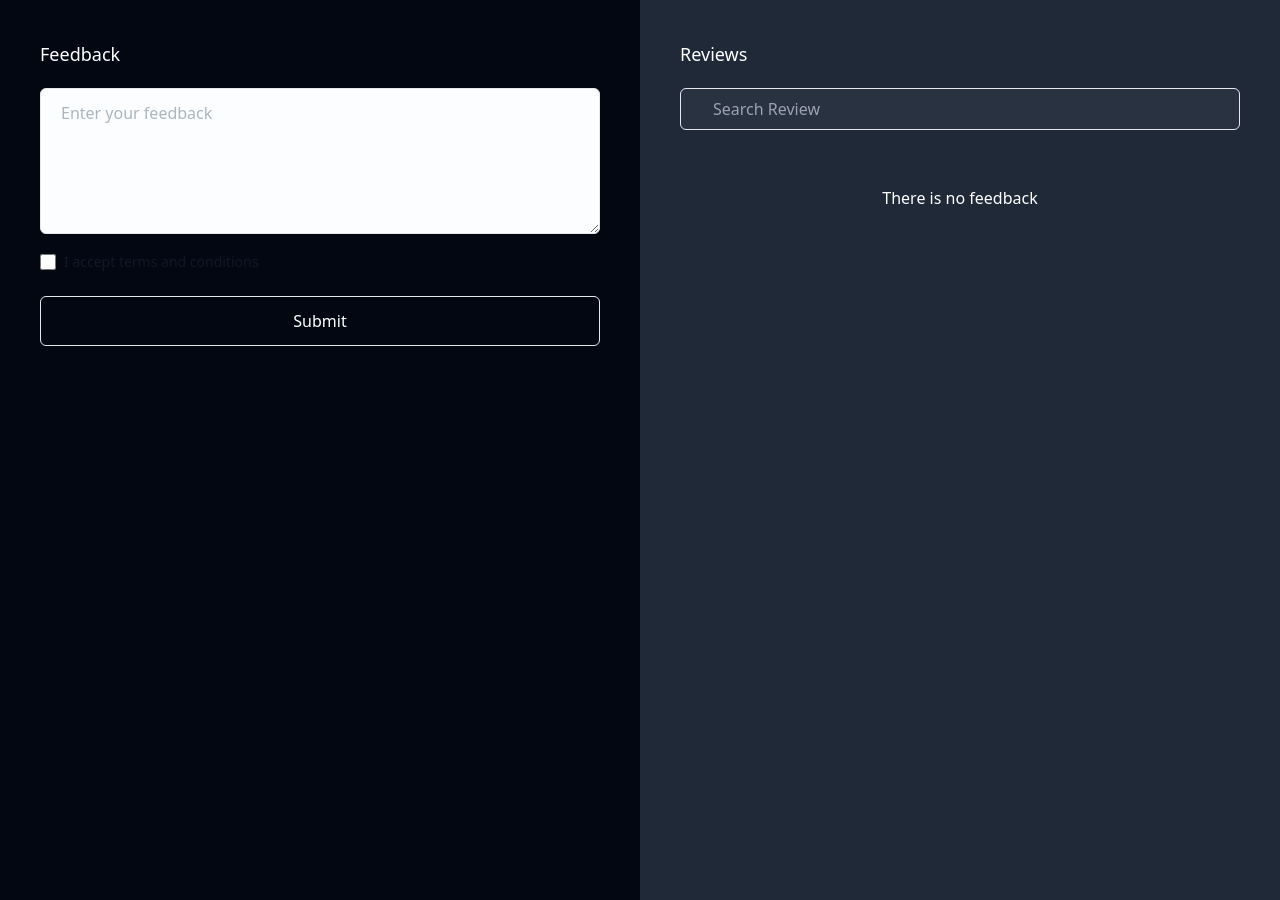
Test: Feedback Test › Feedback should display after submit.
The width and height of the screenshot is (1280, 900).
Step 1. Type "new feedback" into the text box labelled "Feedback" → (320, 161), box [40, 88, 600, 234]
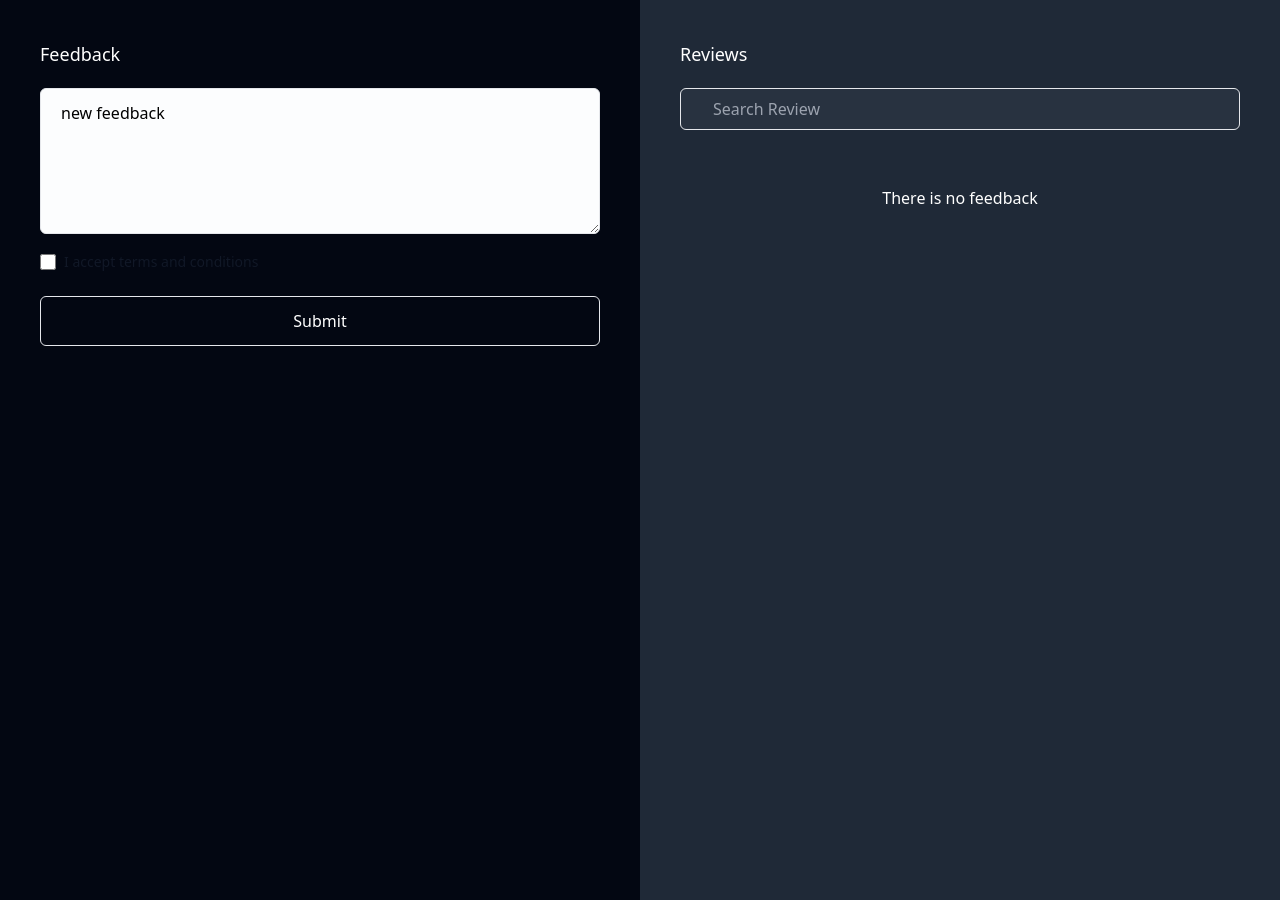
Step 2. Click the checkbox labelled "I accept terms and conditions" → (48, 262), box [40, 254, 56, 270]
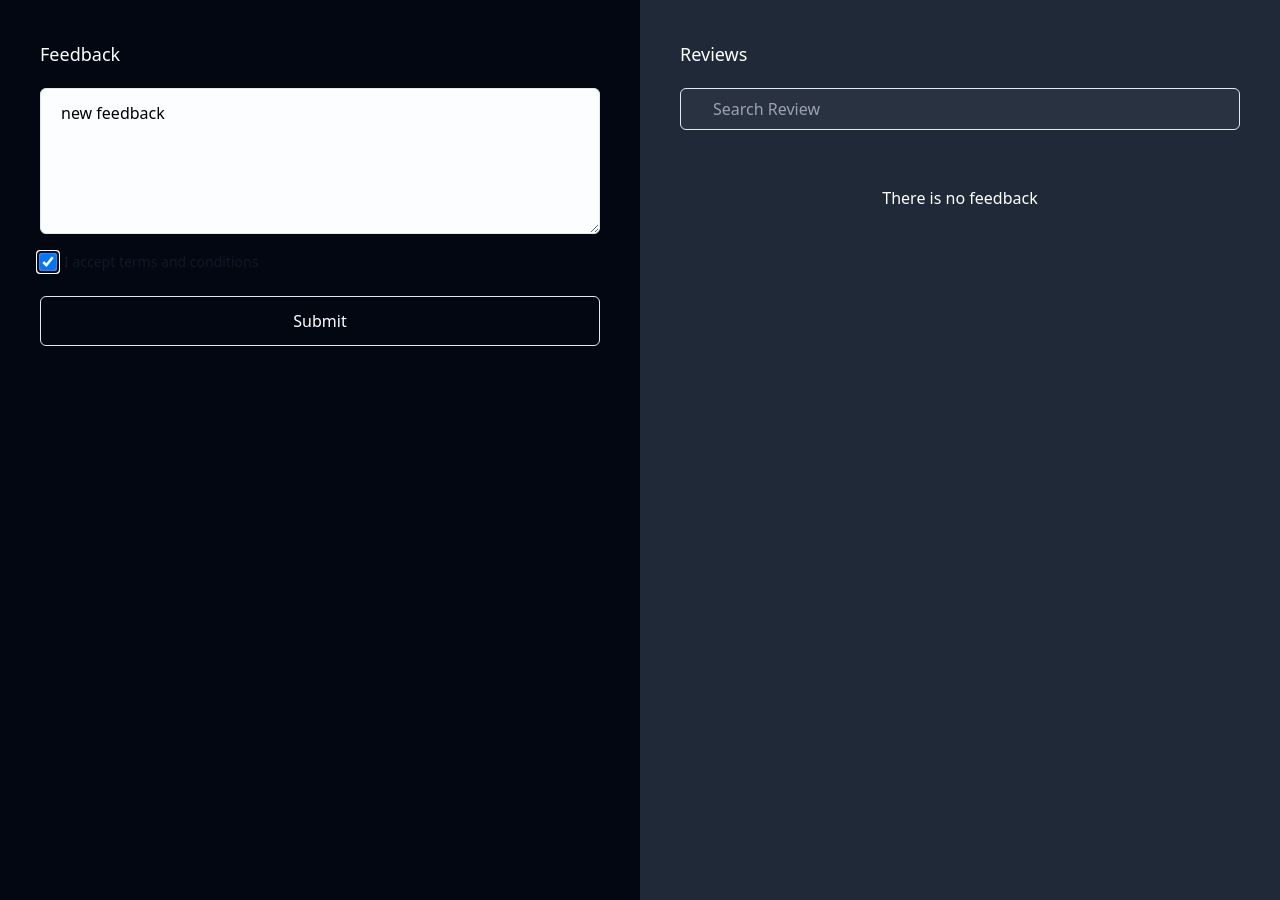
Step 3. Click the button "Submit" → (320, 321), box [40, 296, 600, 346]
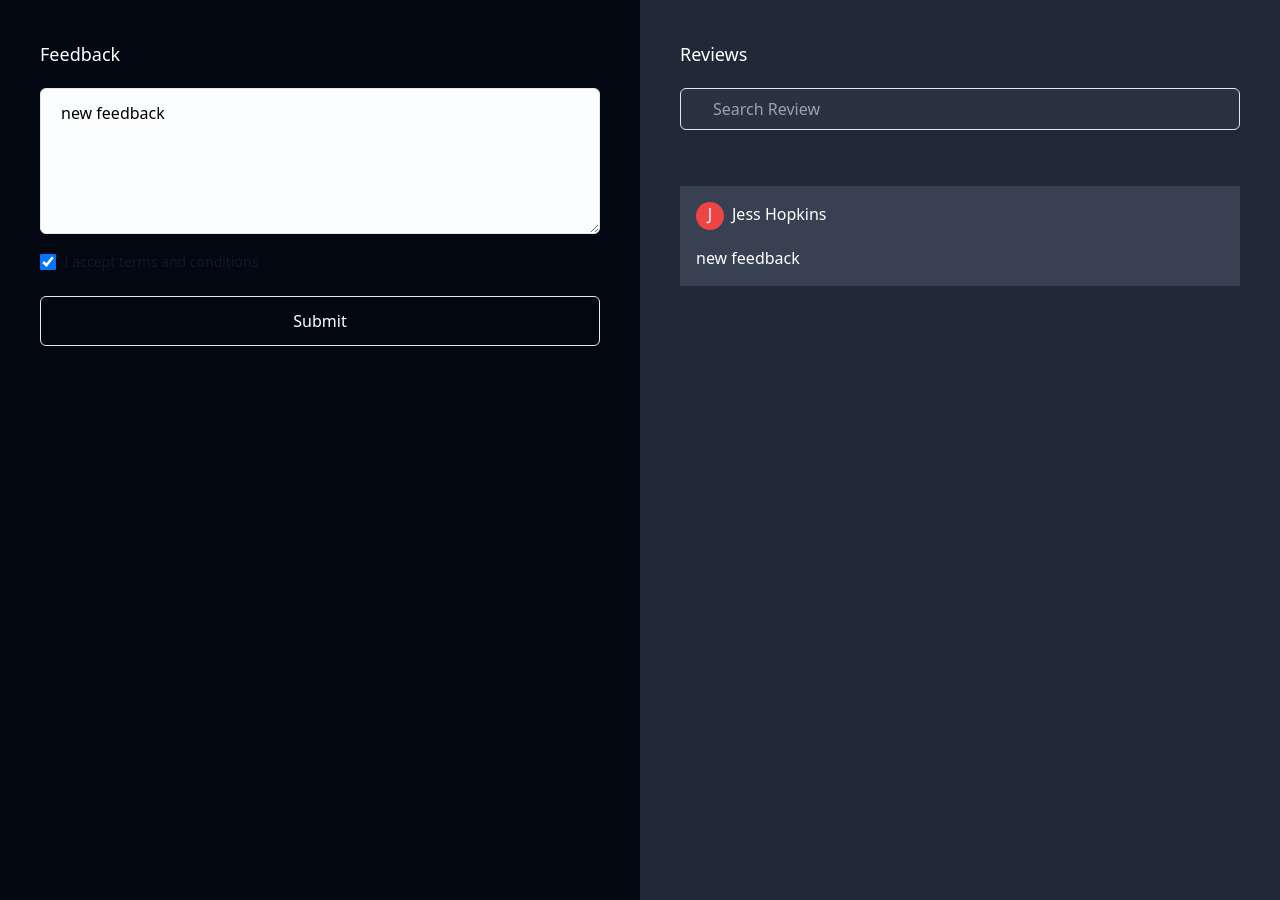
Expected: the text "new feedback" is shown, [696, 247, 800, 269]
